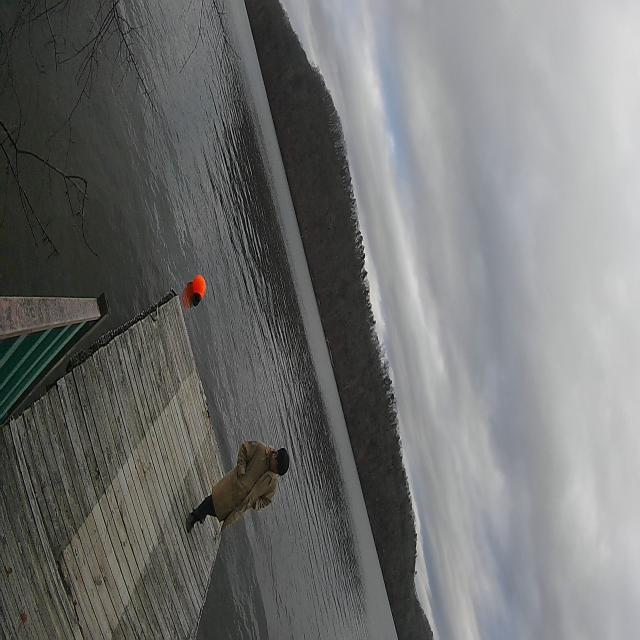Buoy: (191, 270, 208, 310)
